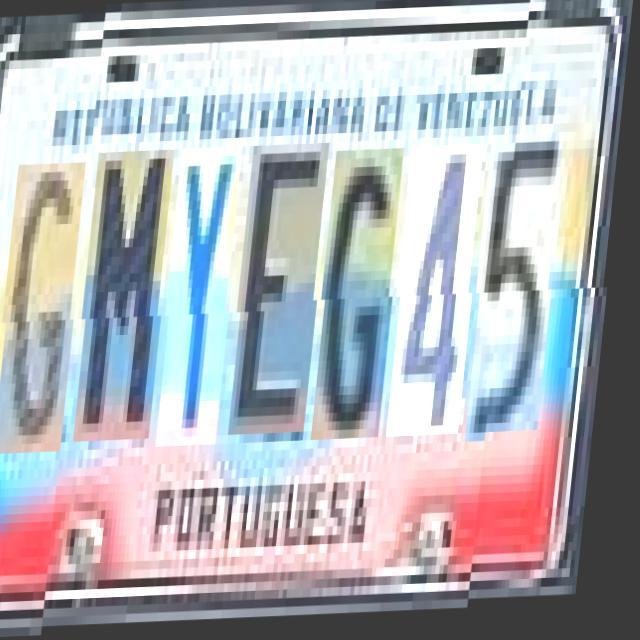4: (396, 148, 491, 440)
5: (474, 146, 570, 446)
E: (238, 146, 337, 438)
G: (321, 152, 412, 444), (4, 154, 94, 446)
M: (83, 151, 182, 443)
Y: (166, 149, 250, 449)
